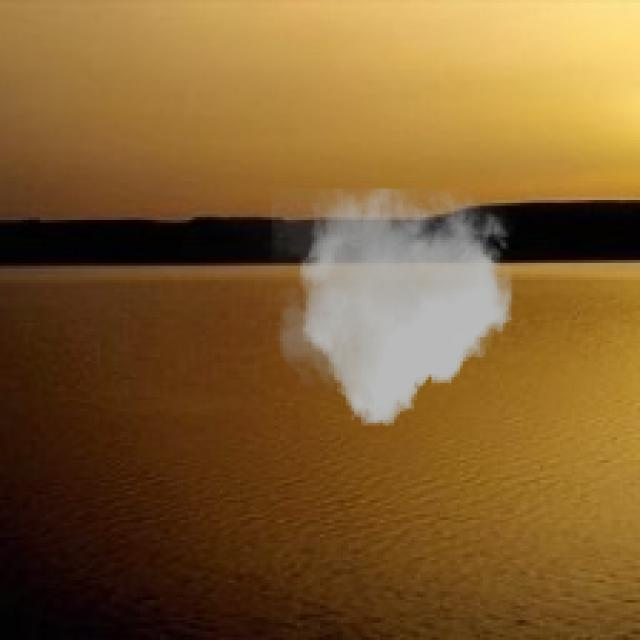Smoke: (272, 188, 517, 426)
